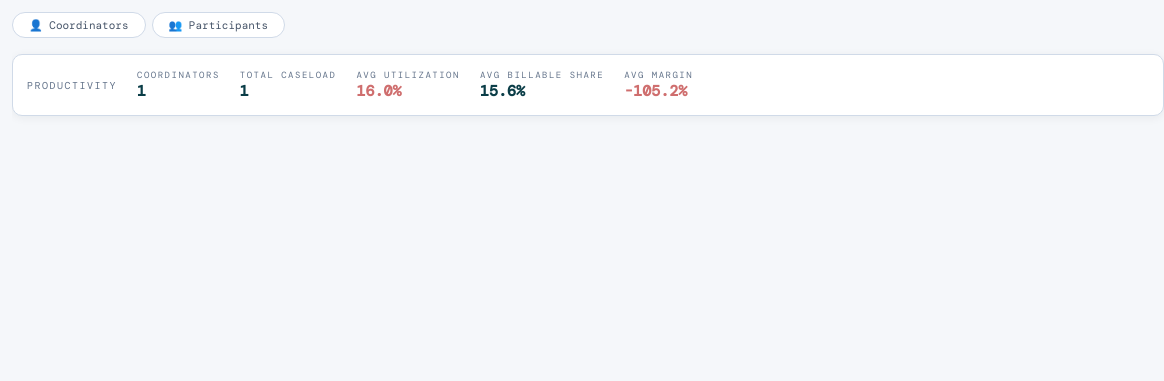
Test: TSCCurrentServicesTab — Participants inner tab › renders the flat participant list without crashing
// Click the Participants toggle to expand the flat list.
Click the button "👥 Participants". click: (218, 25)
box: [152,12,285,38]
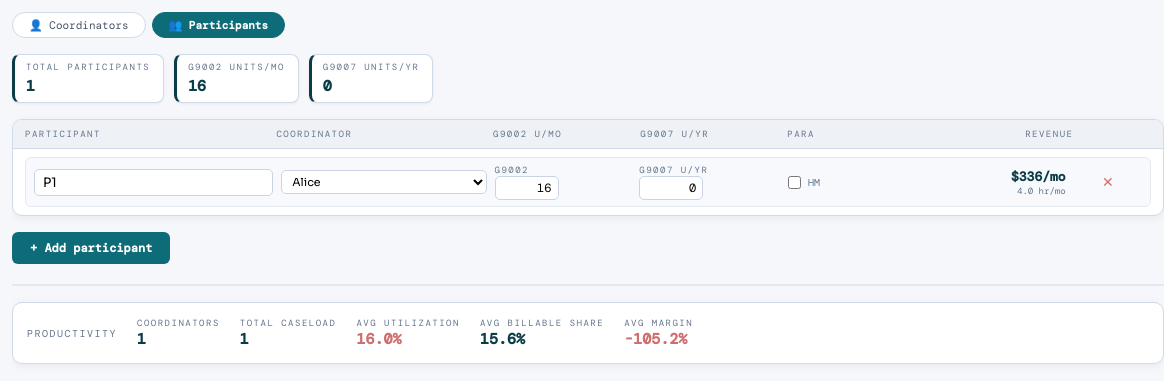
expect the field showing "P1" is shown: met, box [34,168,273,196]
expect the text "$336/mo" is shown: met, box [1011,168,1066,184]
